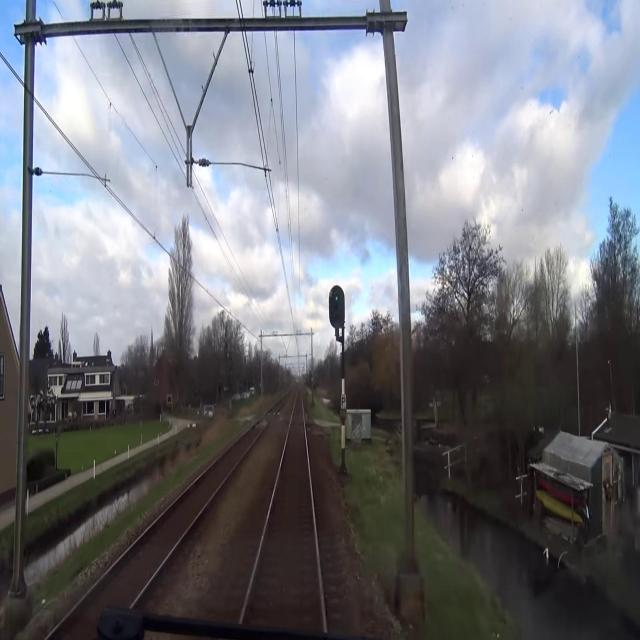rail-track: (51, 411, 273, 639), (244, 392, 322, 629)
